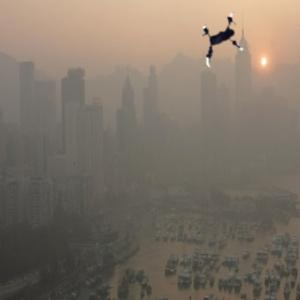drone: (191, 7, 263, 79)
